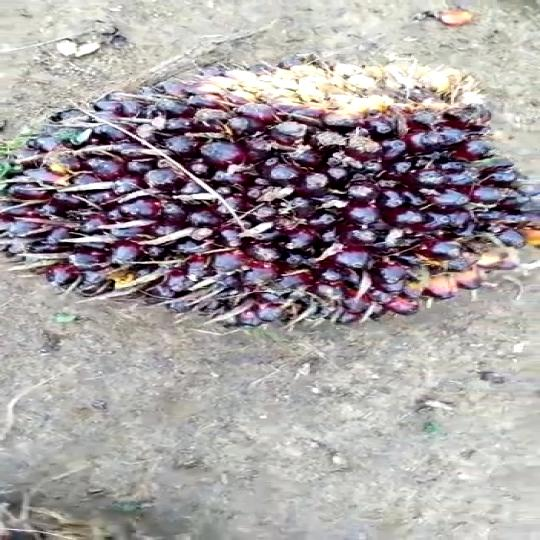mentah: (0, 57, 538, 326)
